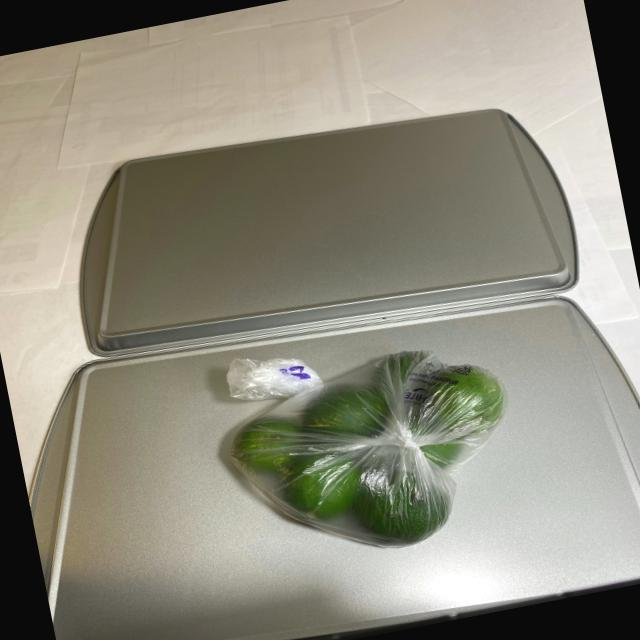lemon: (202, 322, 532, 580)
